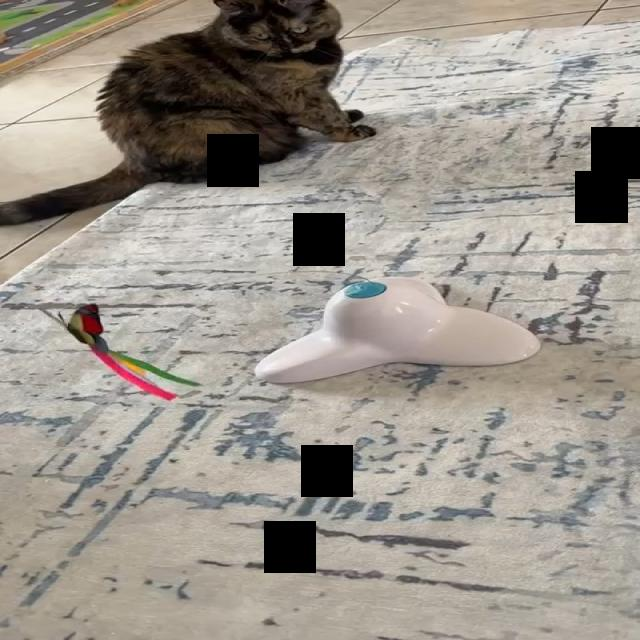authorized: (0, 0, 376, 226)
